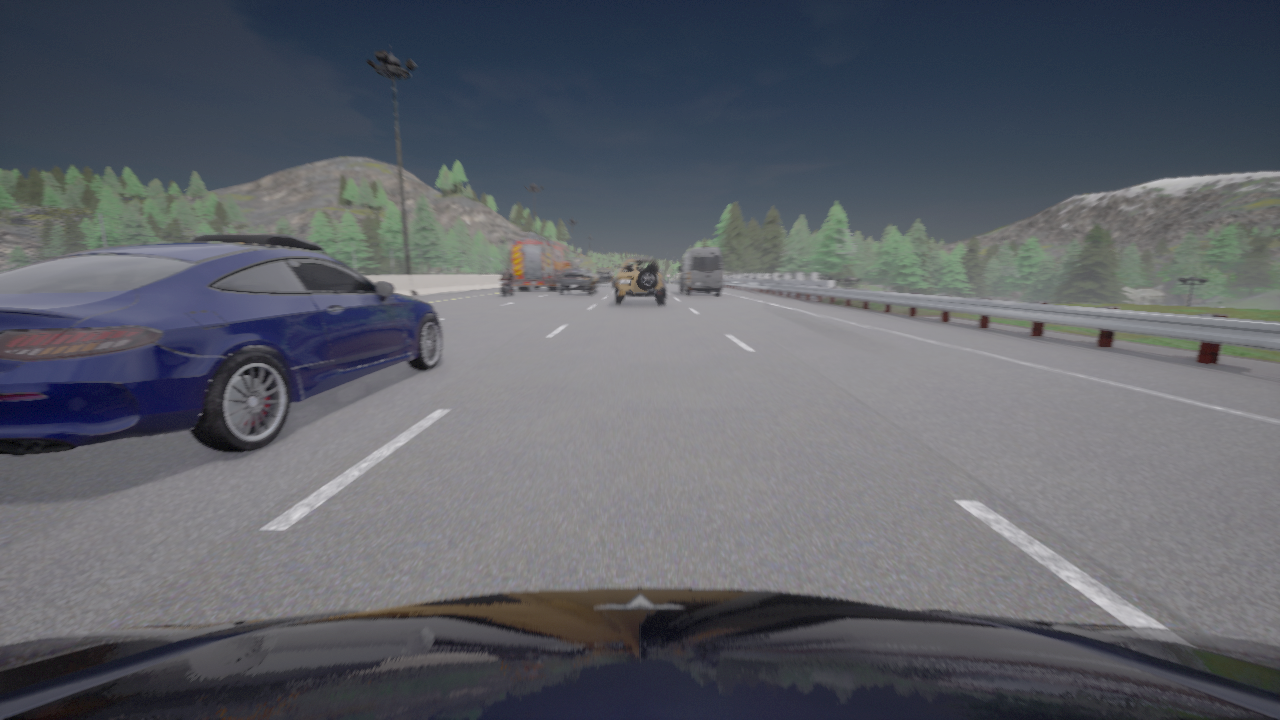cyclist: (0, 588, 1279, 719), (0, 241, 442, 454), (511, 232, 573, 290), (191, 233, 326, 254), (614, 257, 665, 304), (678, 248, 722, 294), (559, 268, 598, 294), (594, 267, 614, 285), (499, 275, 517, 295)
